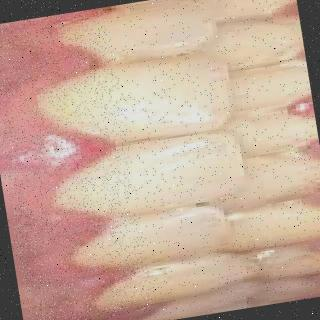Gum Swelling: (11, 15, 115, 320)
calculus: (258, 46, 306, 74), (245, 97, 297, 117), (267, 139, 275, 148)
